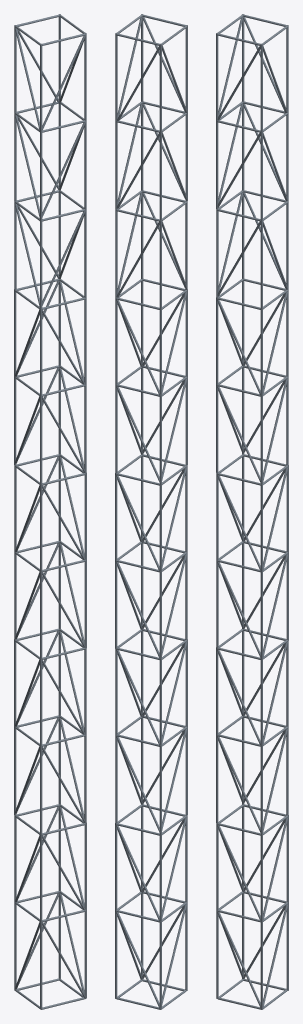
Rendered from torre.obj.
The picture shows the model from 3 angles, left to right: view 1: azimuth 30°, elevation 25°; view 2: azimuth 150°, elevation 25°; view 3: azimuth 330°, elevation 25°; orthographic projection.
Parts seen in each view (by area): view 1: group587378863, group2063954367; view 2: group587378863, group2063954367; view 3: group587378863, group2063954367.
Boxes of the visible parts, x1,y1,x2,y2 form: group587378863: (14, 14, 86, 1009); group2063954367: (15, 978, 84, 1009); group587378863: (115, 14, 187, 1009); group2063954367: (116, 979, 186, 1009); group587378863: (216, 14, 288, 1009); group2063954367: (218, 978, 287, 1009).
Size of the model in its own units: 0.5569 by 11 by 0.5574.
1 material, 1 textured.
